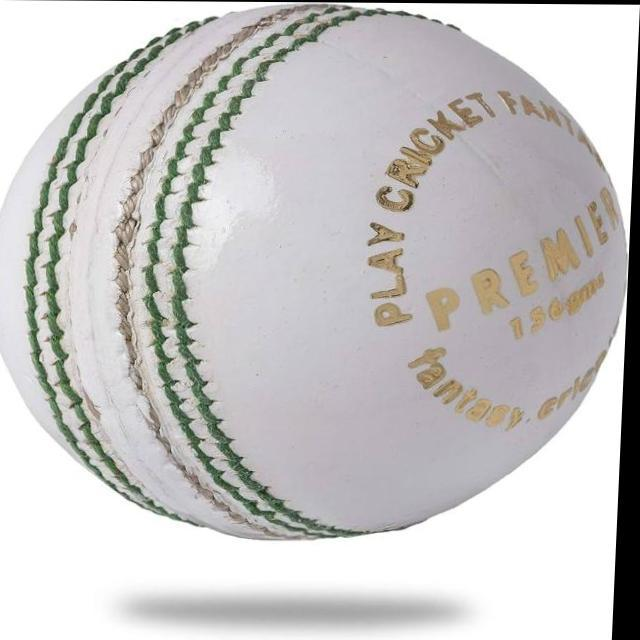cricket ball: (0, 2, 630, 541)
